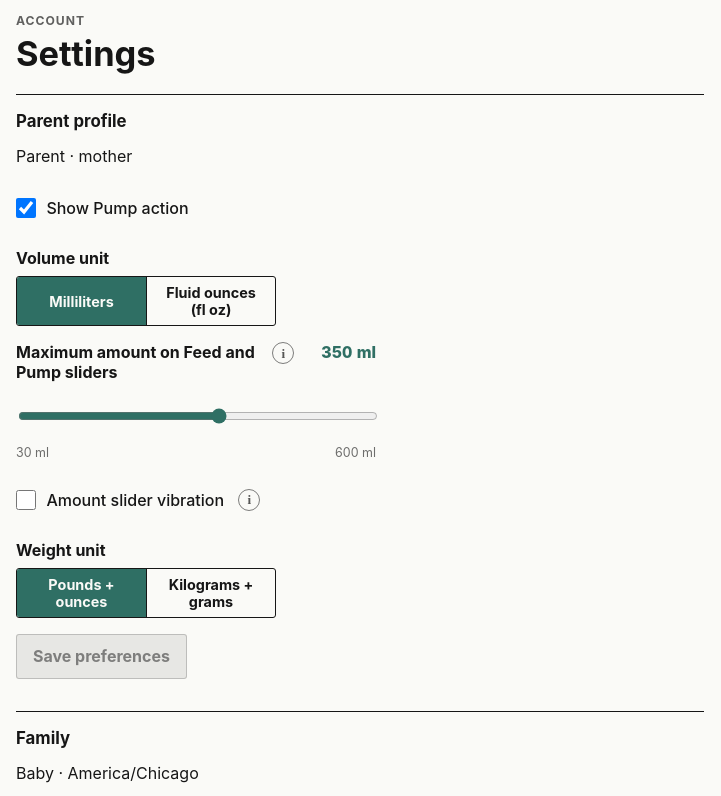
Settings volume preference › shows and saves the device vibration preference only when supported
Expected: the button with class "settings-save" is disabled, [16,634,187,679]
Click the checkbox labelled "Amount slider vibration" at (26, 500), box [16,490,36,510]
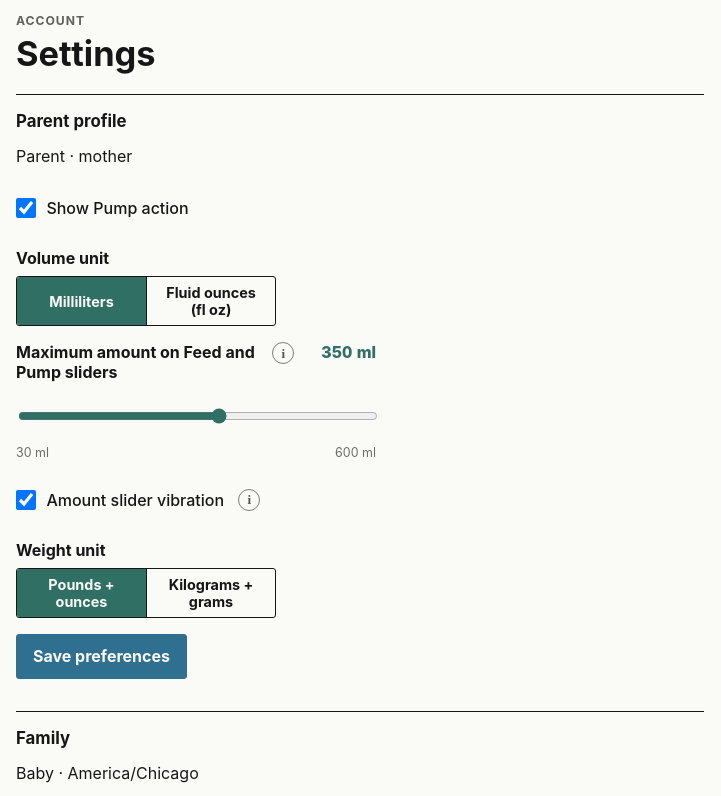
Result: the button with class "settings-save" is enabled at [16,634,187,679]
Click the checkbox labelled "Amount slider vibration" at (26, 500), box [16,490,36,510]
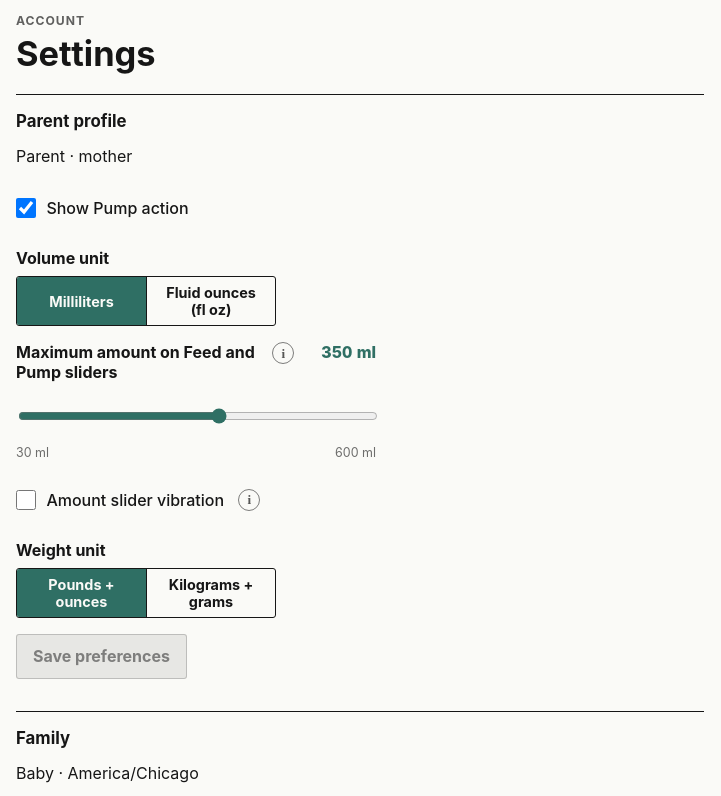
Result: the button with class "settings-save" is disabled at [16,634,187,679]
Click the checkbox labelled "Amount slider vibration" at (26, 500), box [16,490,36,510]
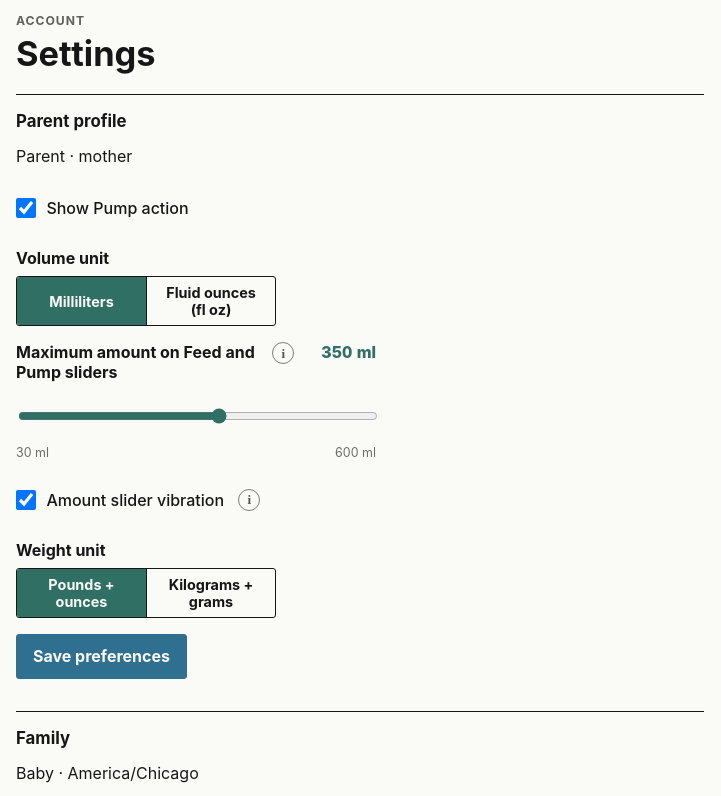
Result: the button with class "settings-save" is enabled
Click the button with class "settings-save" at (101, 656), box [16,634,187,679]
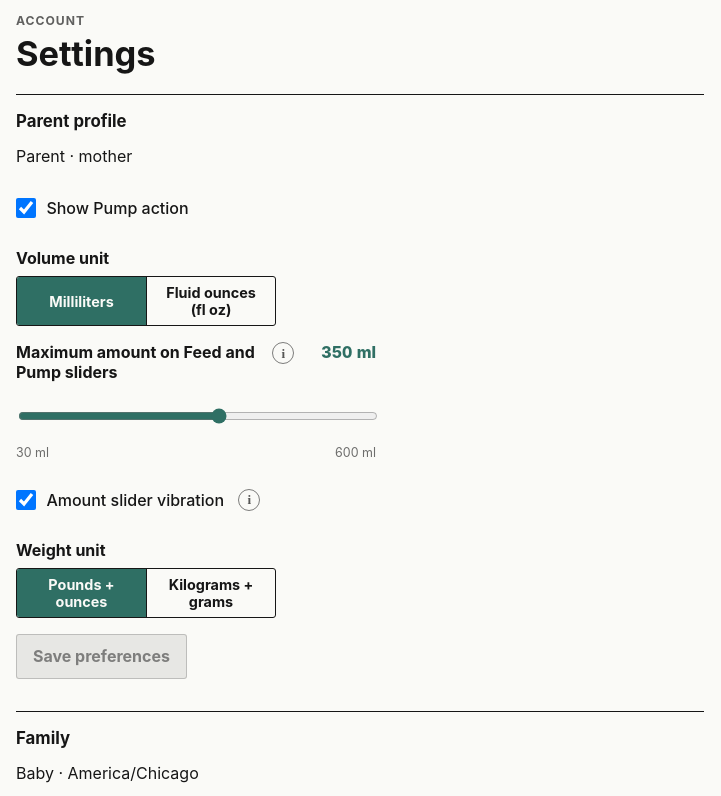
Result: the button with class "settings-save" is disabled at [16,634,187,679]
